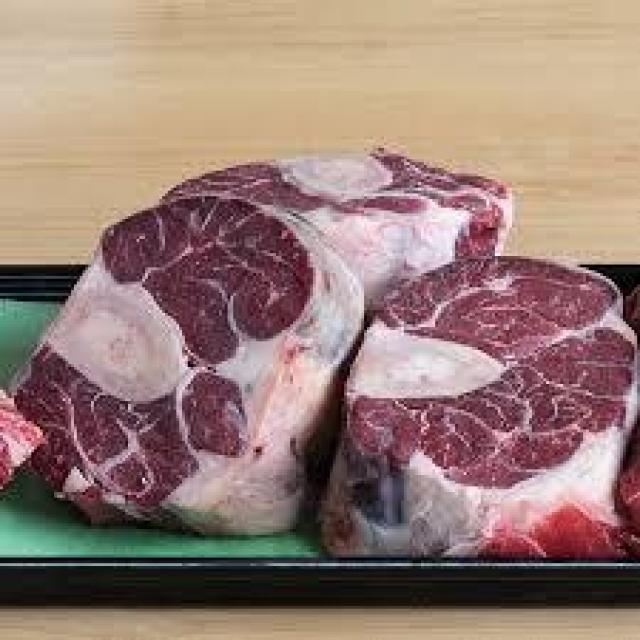beef: (15, 192, 338, 556)
